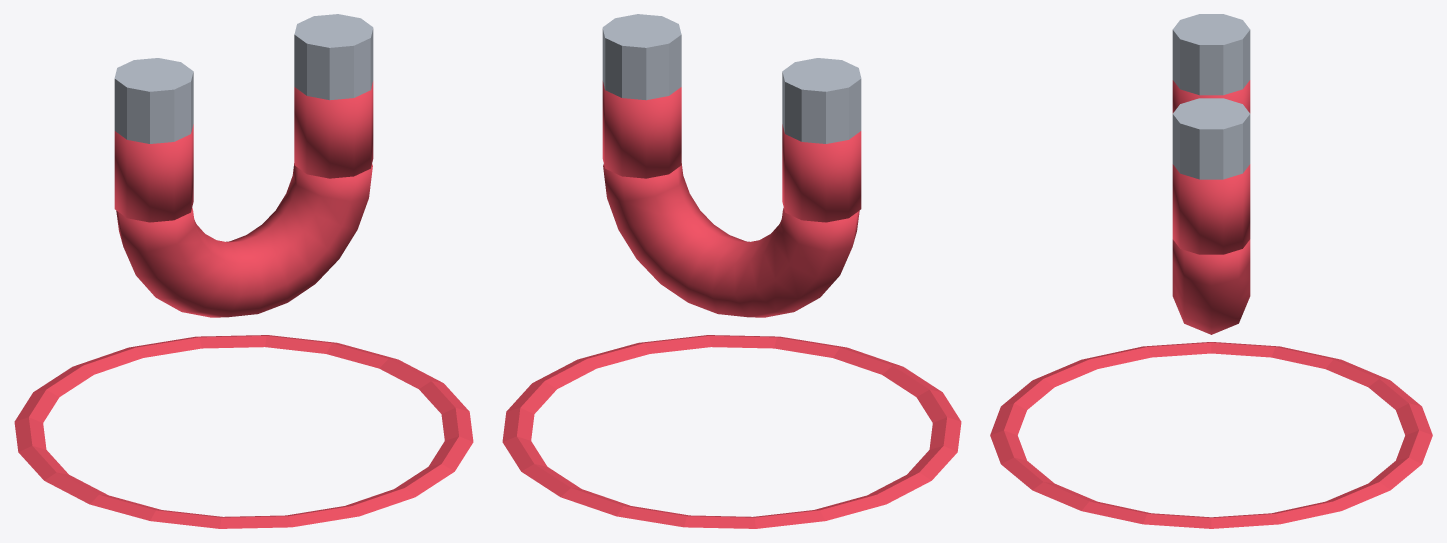
Rendered from pu_magnet.glb.
3 renders of one model, left to right at view 1: azimuth 30°, elevation 25°; view 2: azimuth 150°, elevation 25°; view 3: azimuth 270°, elevation 25°, orthographic. The views are drawn at different scales.
Visible parts, largest first — view 1: pu_magnet; view 2: pu_magnet; view 3: pu_magnet.
Boxes of the visible parts, x1,y1,x2,y2 form: pu_magnet: [14, 14, 473, 528]; pu_magnet: [502, 14, 961, 528]; pu_magnet: [990, 14, 1432, 528].
Bounding box in the file's own units: 1.6 × 1.47 × 1.6.
